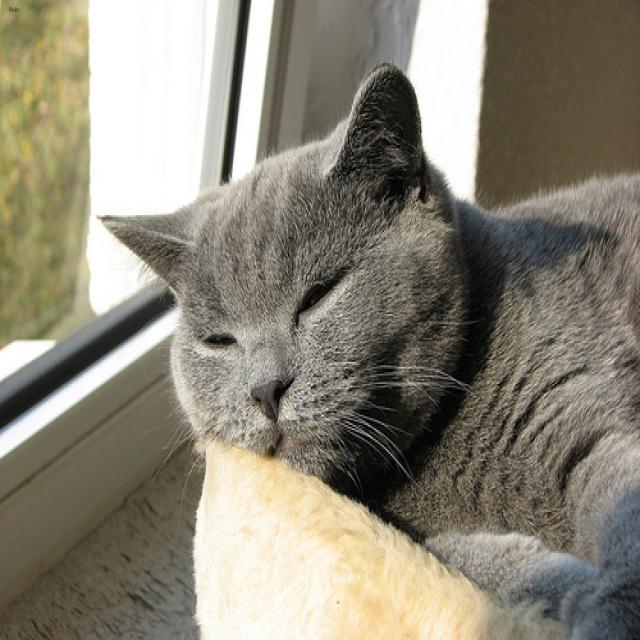British_Shorthair: (96, 62, 434, 476)
